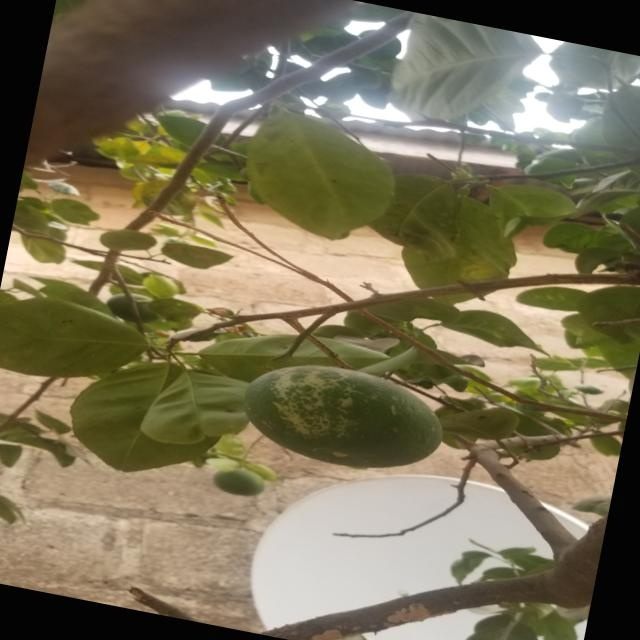agrume: (204, 340, 463, 501)
